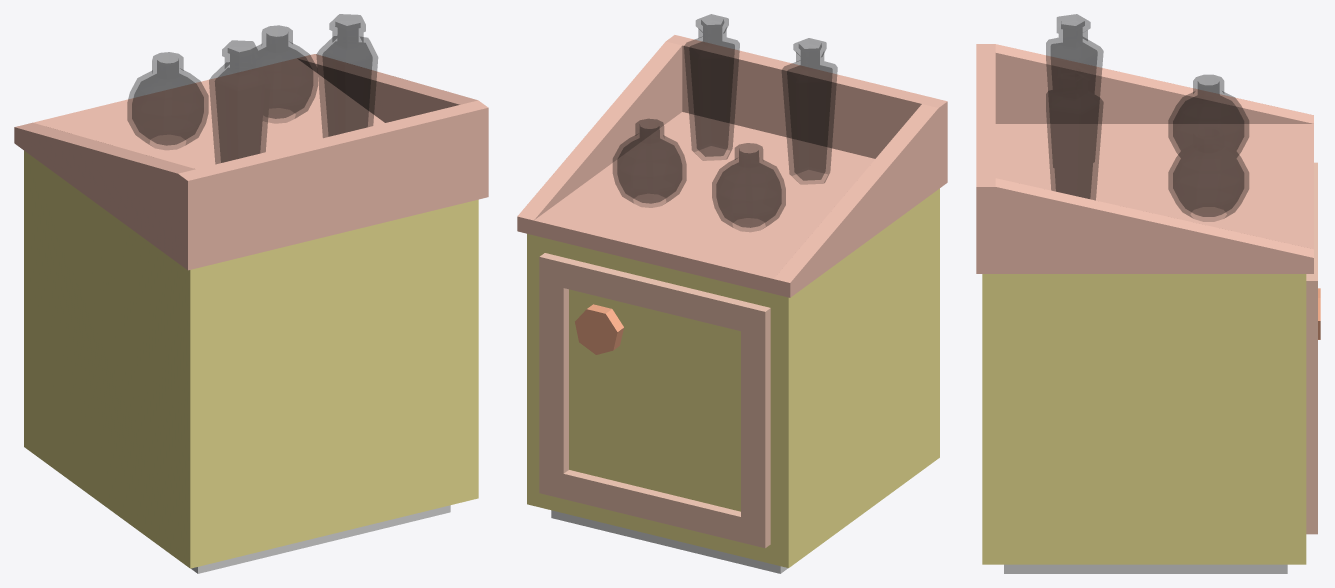
File: rack potion.fbx
The picture shows the model from 3 angles, left to right: view 1: azimuth 30°, elevation 25°; view 2: azimuth 150°, elevation 25°; view 3: azimuth 270°, elevation 25°; orthographic projection. The views are drawn at different scales.
Visible parts, largest first — view 1: box, table potion, Cylinder, Cylinder.001, potion.001, potion, bottom; view 2: box, table potion, decoration, Cylinder, Cylinder.001, potion, potion.001, bottom, handle; view 3: box, table potion, Cylinder, potion, potion.001, Cylinder.001, decoration, bottom.
Part boxes in pixels (x1,y1,x2,y2): box: (24, 150, 478, 568); table potion: (14, 54, 488, 270); Cylinder: (316, 14, 377, 137); Cylinder.001: (209, 40, 270, 163); potion.001: (127, 52, 208, 149); potion: (251, 25, 317, 122); bottom: (191, 505, 450, 573); box: (527, 188, 939, 567); table potion: (517, 35, 947, 297); decoration: (539, 253, 770, 548); Cylinder: (684, 14, 739, 160); Cylinder.001: (782, 38, 837, 183); potion: (613, 119, 686, 207); potion.001: (712, 143, 785, 231); bottom: (551, 510, 788, 573); handle: (575, 304, 623, 354); box: (982, 274, 1306, 564); table potion: (976, 44, 1313, 273); Cylinder: (1046, 65, 1103, 200); potion: (1168, 127, 1248, 221); potion.001: (1168, 75, 1248, 157); Cylinder.001: (1046, 14, 1103, 167); decoration: (1306, 162, 1317, 534); bottom: (1004, 564, 1287, 573).
Bounding box in the file's own units: 87.65 × 135 × 89.35.
